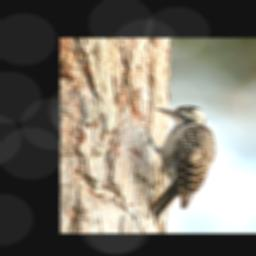Woodpecker: (139, 102, 217, 225)
